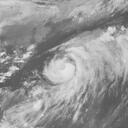cyclone: (39, 45, 95, 97)
